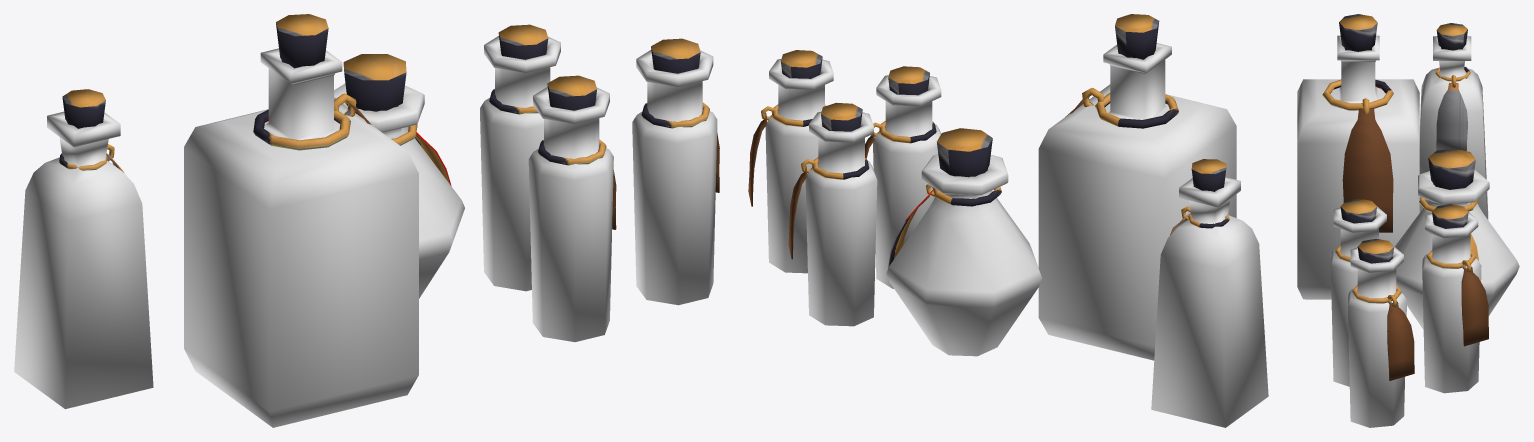
Rendered from combination4LP.fbx.
3 views of the same model, side by side, from view 1: azimuth 30°, elevation 25°; view 2: azimuth 150°, elevation 25°; view 3: azimuth 270°, elevation 25° (orthographic). The views are drawn at different scales.
Visible parts, largest first — view 1: glassC4, potionC4; view 2: glassC4, potionC4; view 3: glassC4, potionC4.
Boxes of the visible parts, x1,y1,x2,y2 form: glassC4: (14, 36, 717, 427); potionC4: (59, 14, 719, 229); glassC4: (765, 43, 1268, 427); potionC4: (748, 14, 1229, 267); glassC4: (1297, 35, 1519, 427); potionC4: (1322, 14, 1488, 380).
Size of the model in its own units: 204 by 112 by 86.78.
